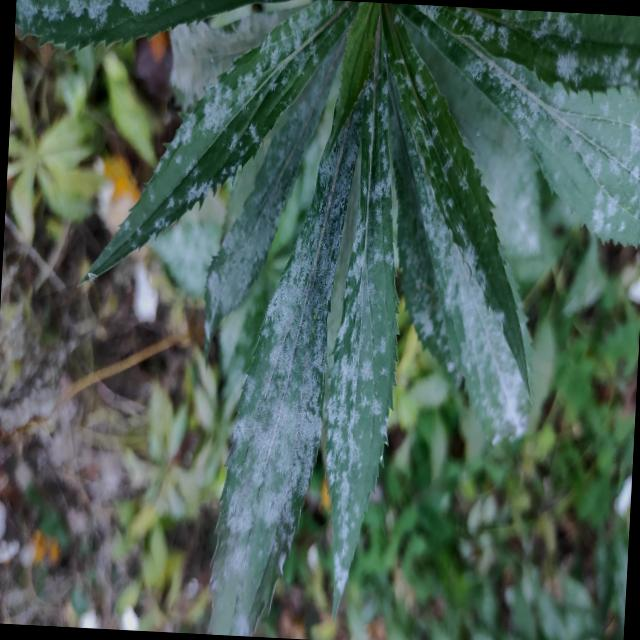powdery_mildew: (211, 109, 361, 637), (88, 1, 354, 277), (384, 10, 529, 443), (205, 38, 345, 347), (326, 18, 398, 613)
